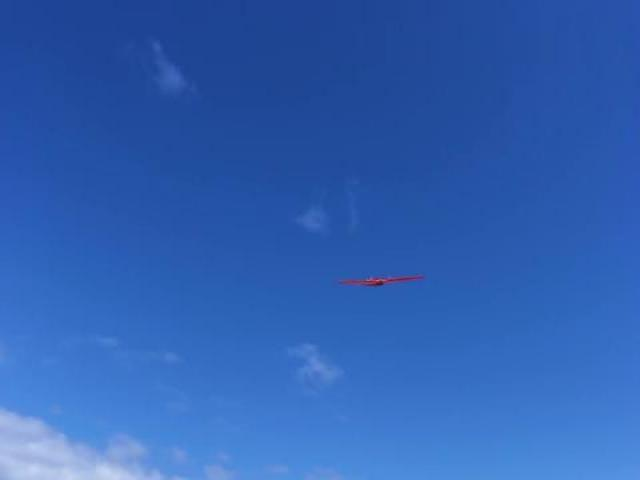flying wing: (296, 240, 427, 292)
